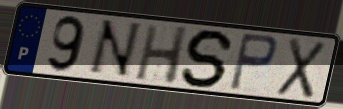9: (45, 14, 90, 74)
H: (132, 23, 191, 87)
N: (84, 18, 145, 81)
P: (226, 31, 280, 94)
S: (179, 27, 238, 90)
X: (273, 35, 329, 101)
